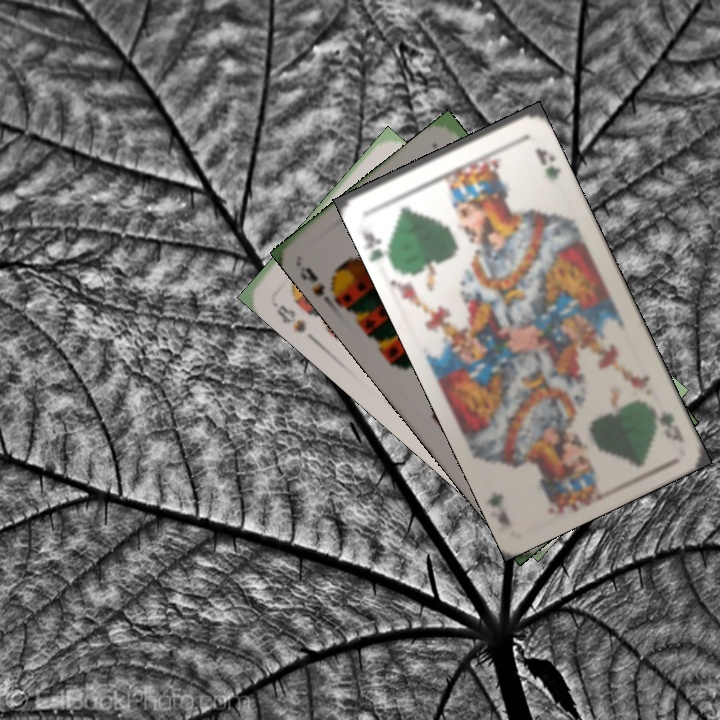GK: (358, 226, 394, 266), (653, 406, 686, 446)
S8: (272, 300, 309, 335)
S9: (295, 262, 340, 311)
